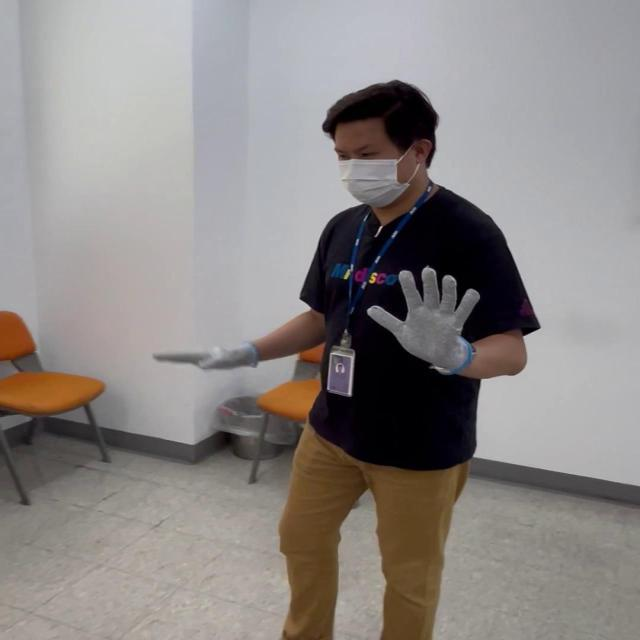gloved_hand: (367, 259, 485, 376), (162, 325, 287, 381)
